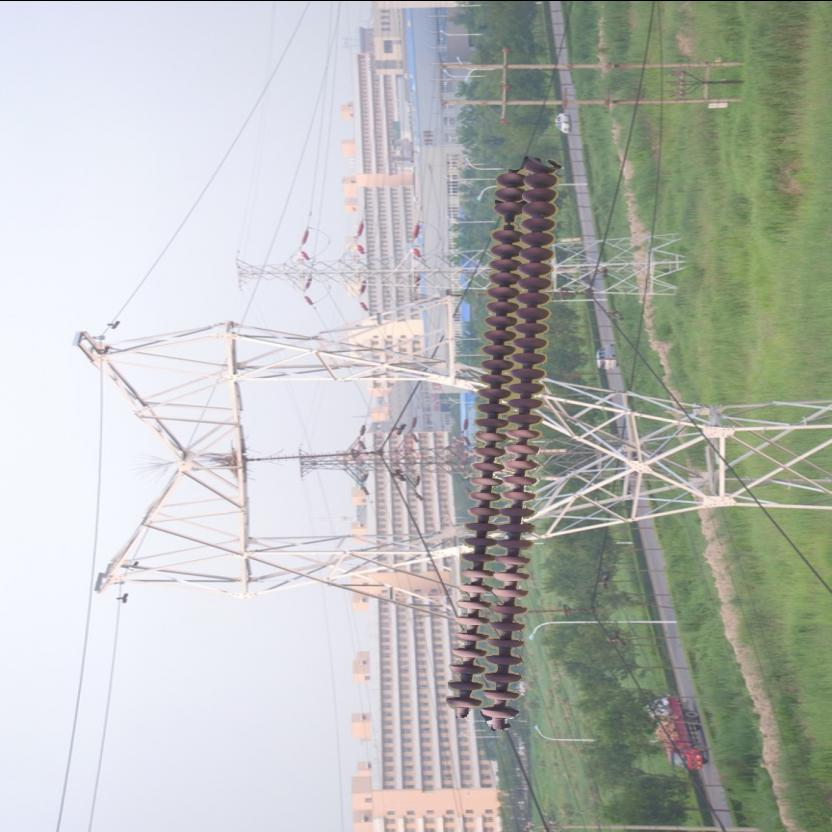defect: (488, 197, 528, 244)
